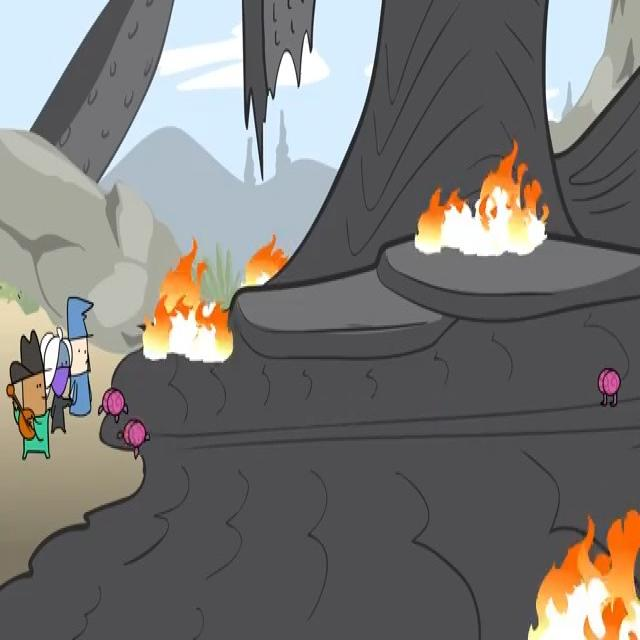Banjovi: (6, 330, 52, 461)
Josh: (67, 296, 94, 417)
miss Demeanor: (40, 327, 73, 434)
